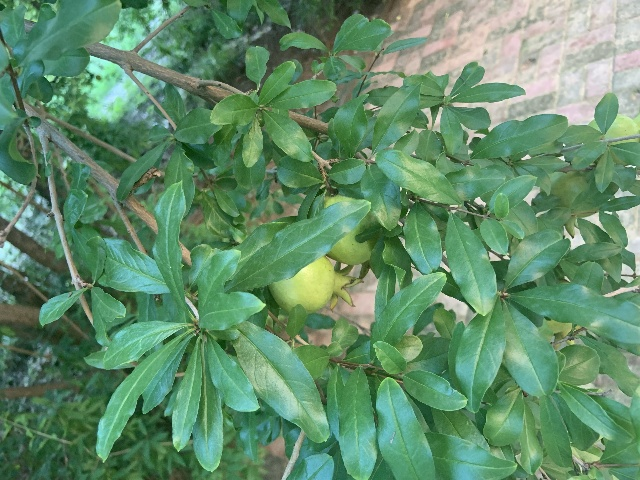mid-growth: (268, 255, 364, 312), (324, 194, 381, 265)
